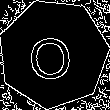O_N: (29, 26, 78, 82)
